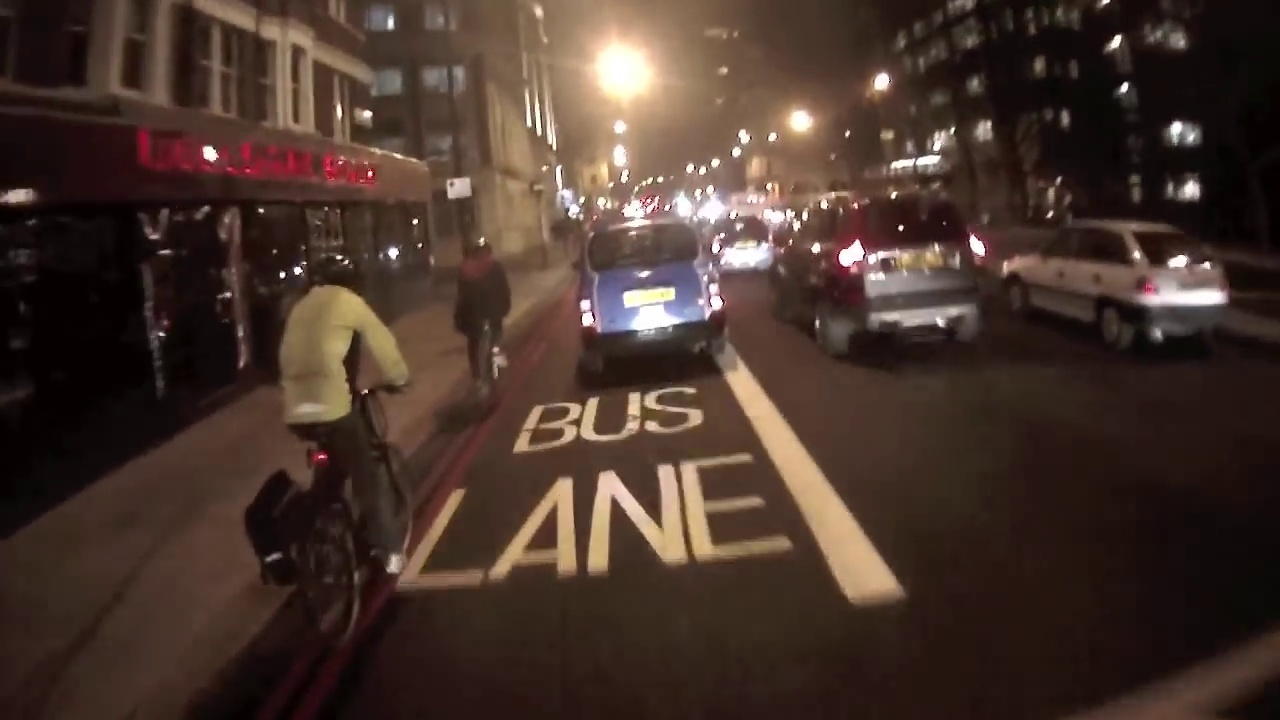cyclist_back: (250, 259, 419, 643), (456, 232, 522, 413)
